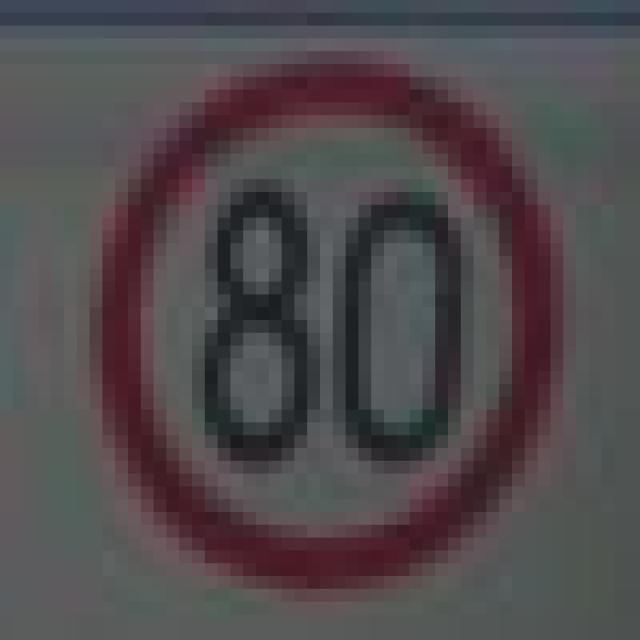speed_limit_50: (77, 38, 563, 589)
